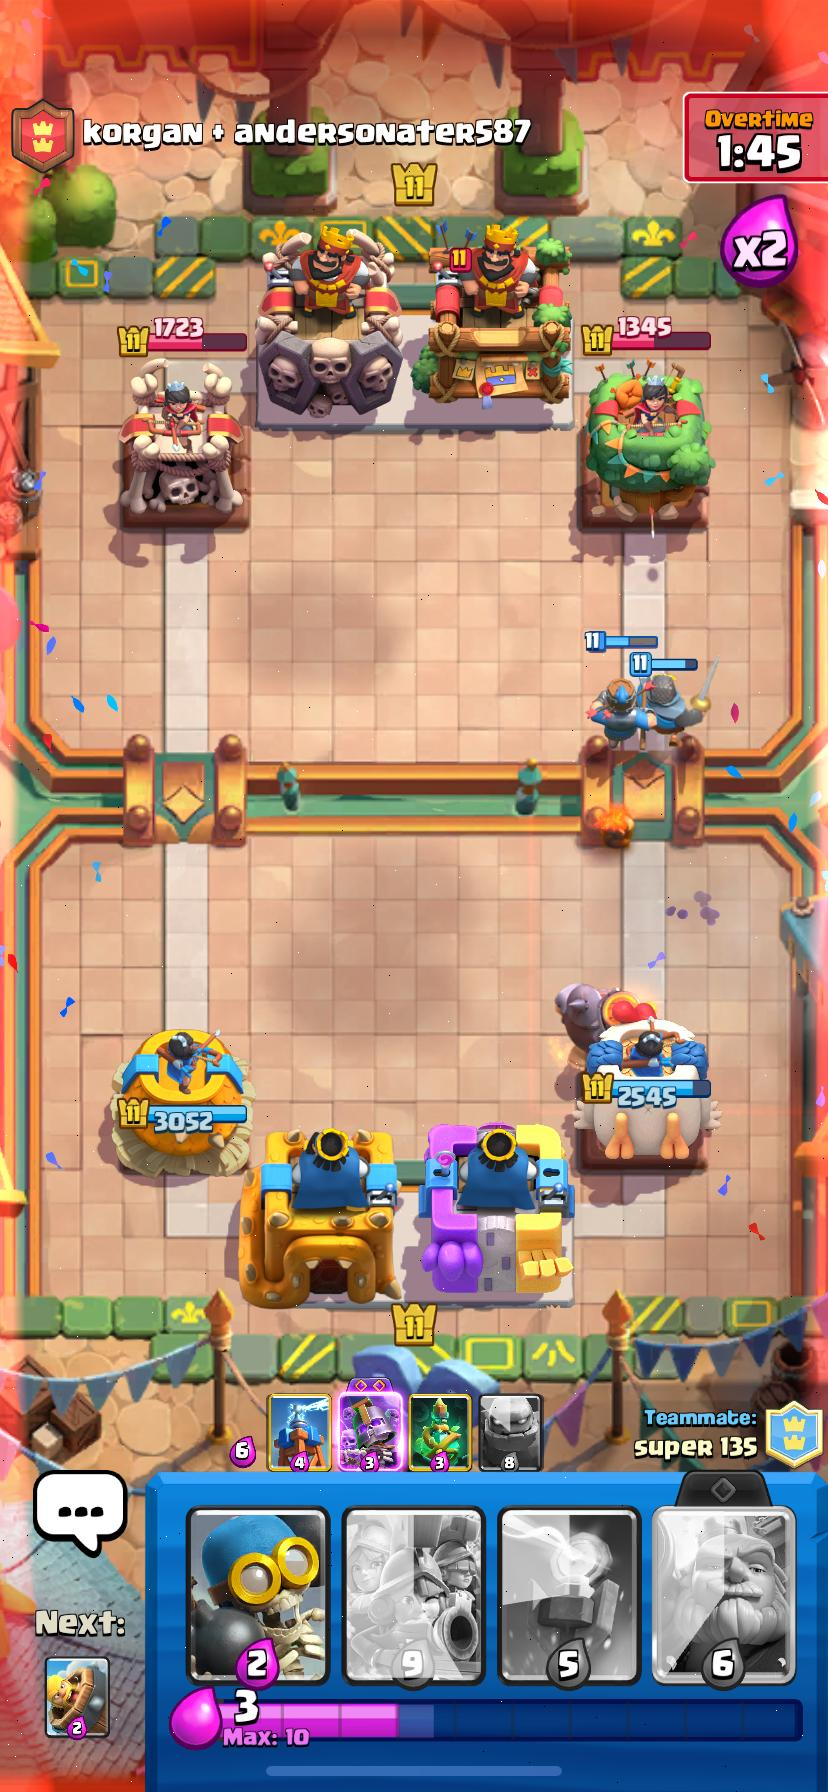EKingTower: (412, 223, 571, 405), (256, 227, 403, 421)
EnemyPrincessTower: (580, 363, 714, 529), (120, 360, 242, 521)
OFurnace: (556, 983, 640, 1043)
OKnight: (647, 673, 702, 746)
ORoyalR: (588, 679, 647, 746)
OwnKingTower: (240, 1127, 403, 1306), (419, 1123, 573, 1301)
OwnPrincessTower: (113, 1031, 253, 1175), (582, 1018, 710, 1161)
